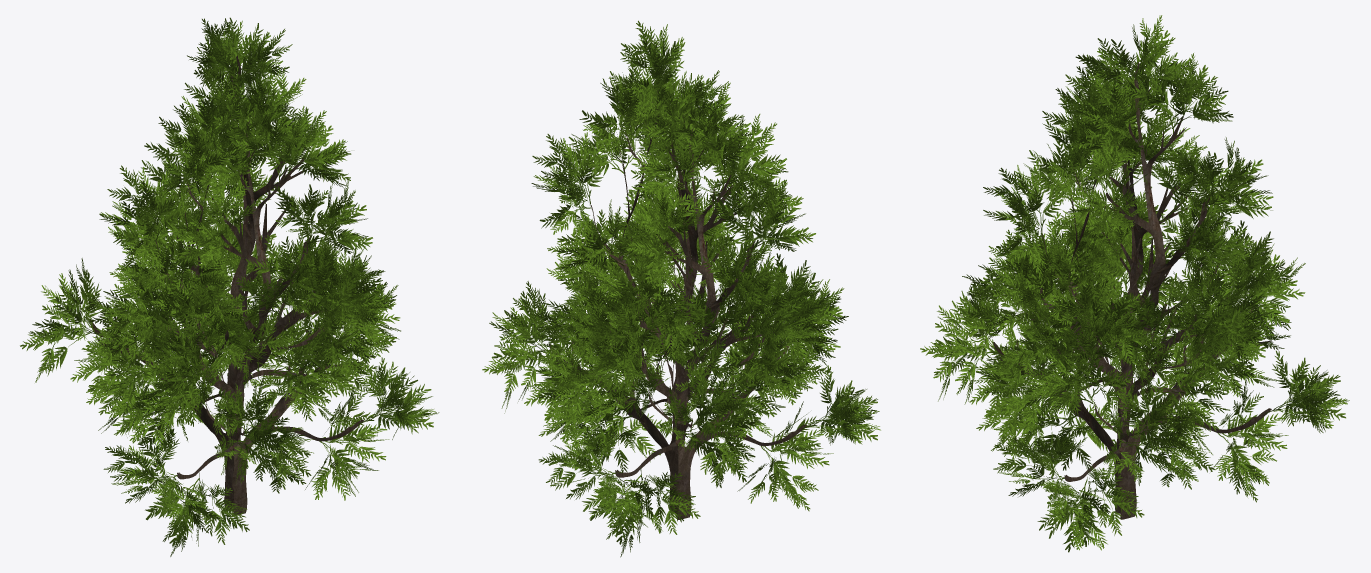
The model's file is tree2.glb.
3 renders of one model, left to right at view 1: azimuth 30°, elevation 25°; view 2: azimuth 150°, elevation 25°; view 3: azimuth 270°, elevation 25°, orthographic. The views are drawn at different scales.
Visible parts, largest first — view 1: Leaves, Bark.001; view 2: Leaves, Bark.001; view 3: Leaves, Bark.001.
Part boxes in pixels (<box>): Leaves: <box>20,17,439,556</box>; Bark.001: <box>89,55,363,514</box>; Leaves: <box>482,20,880,557</box>; Bark.001: <box>549,90,806,519</box>; Leaves: <box>920,15,1349,552</box>; Bark.001: <box>993,62,1271,519</box>.
Size of the model in its own units: 2.45 by 3.4 by 2.71.
Materials: 2 (2 with a texture image).
